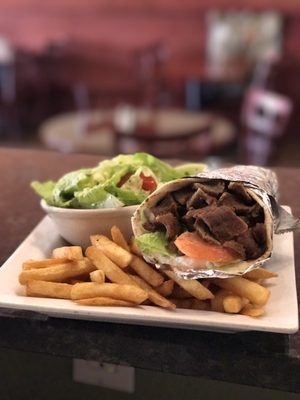sushi: (30, 151, 211, 246)
